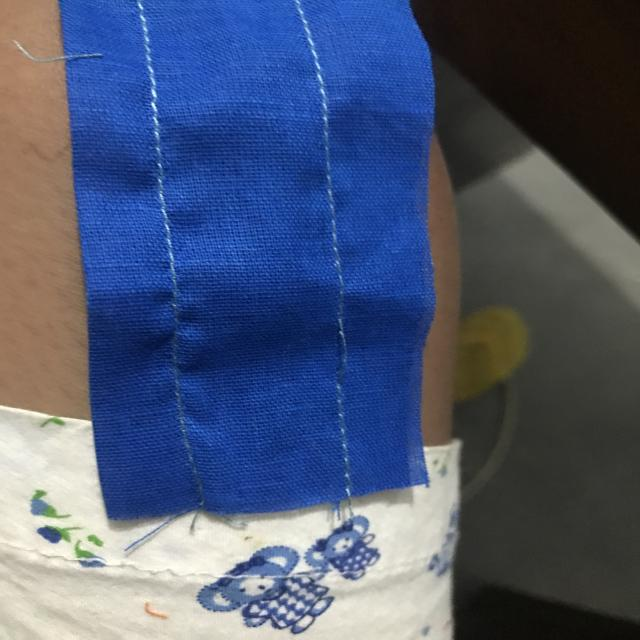good: (142, 172, 189, 256)
skip: (323, 312, 366, 388)
